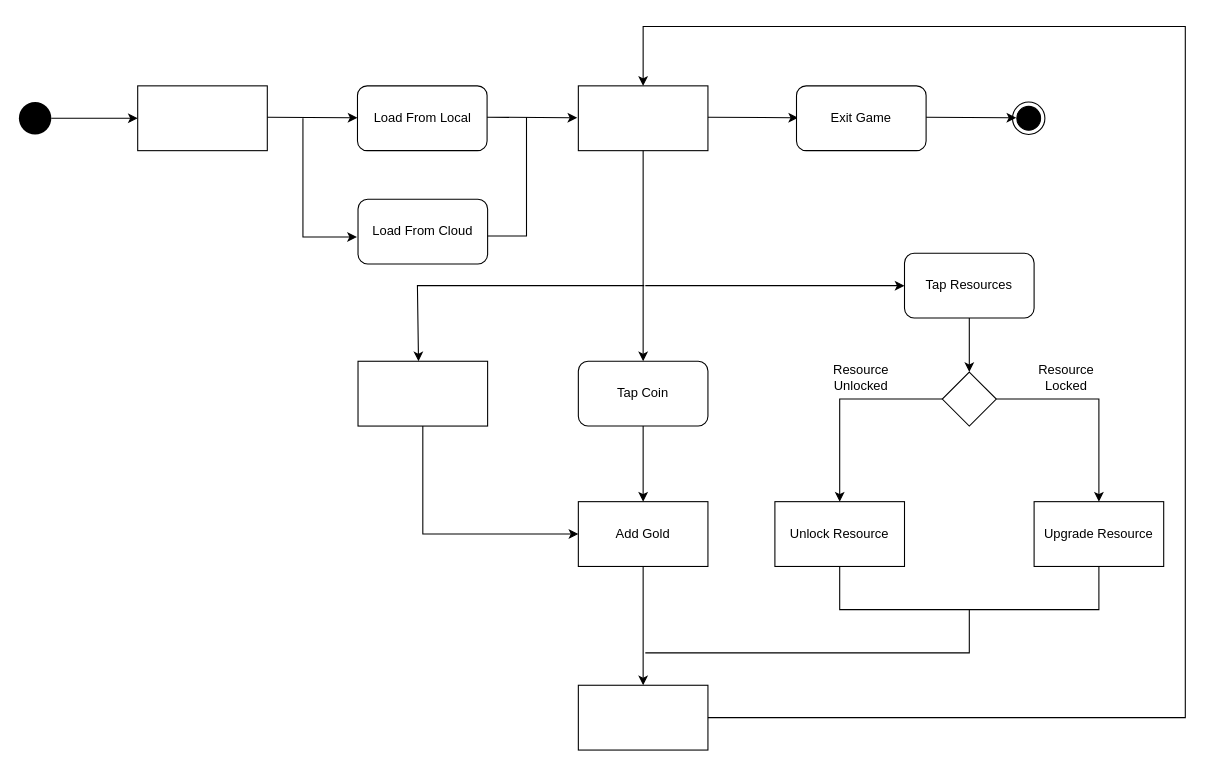
The diagram is 1213 pixels wide and 769 high, and some of its shapes have lost their labels. The centre of each missing label's shape, as x and y in pixels:
"Auto Collect" goes at (x=422, y=393).
"Gameplay" goes at (x=642, y=118).
"Load Screen" goes at (x=202, y=118).
"Save Game" goes at (x=642, y=717).
